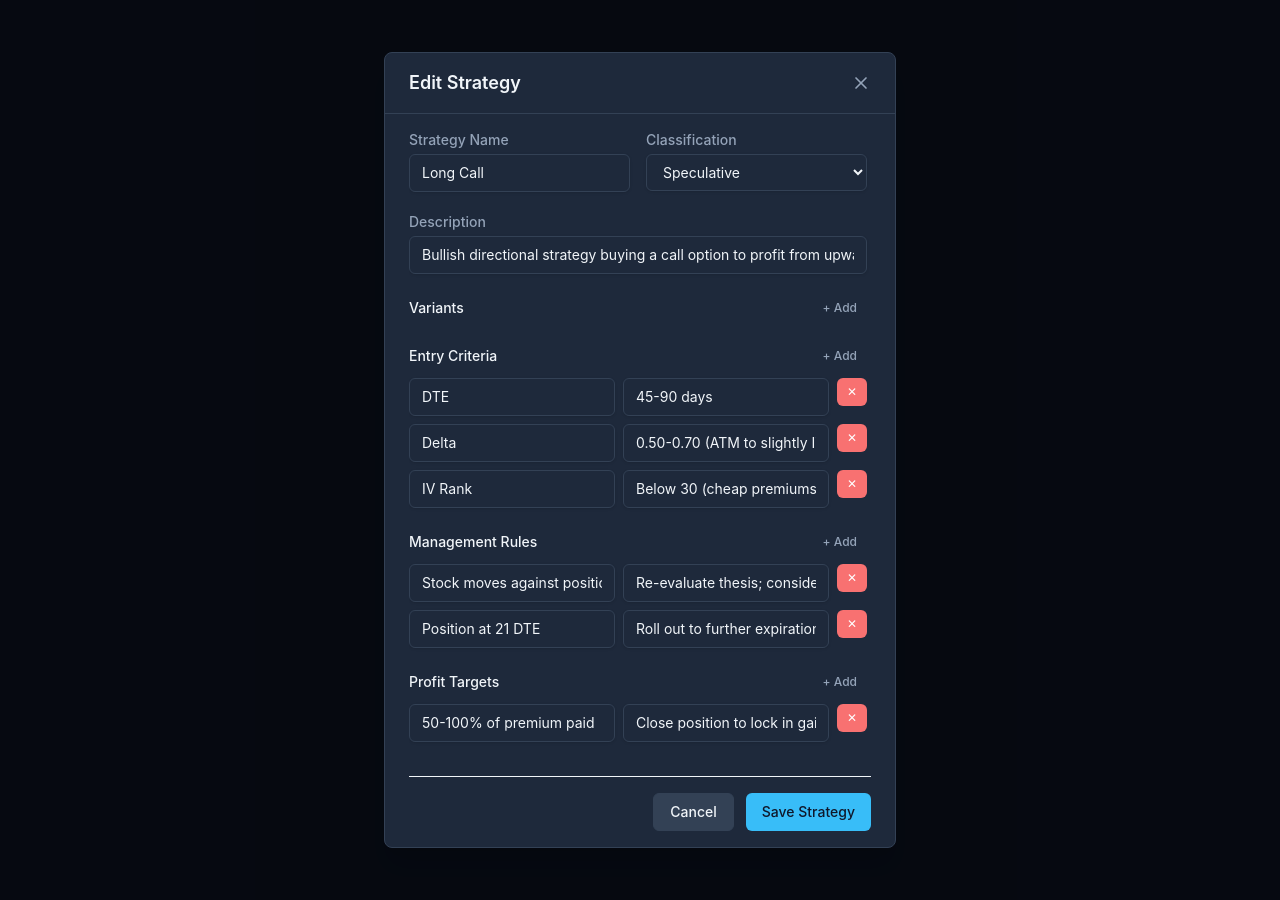
Integration: Imported strategy is editable via StrategyEditor › treats imported strategy identically to manually created (same validation)
Clear the name to trigger validation error
Clear the field labelled "Strategy Name" at coordinates (520, 173), box x1=409 y1=154 x2=630 y2=192
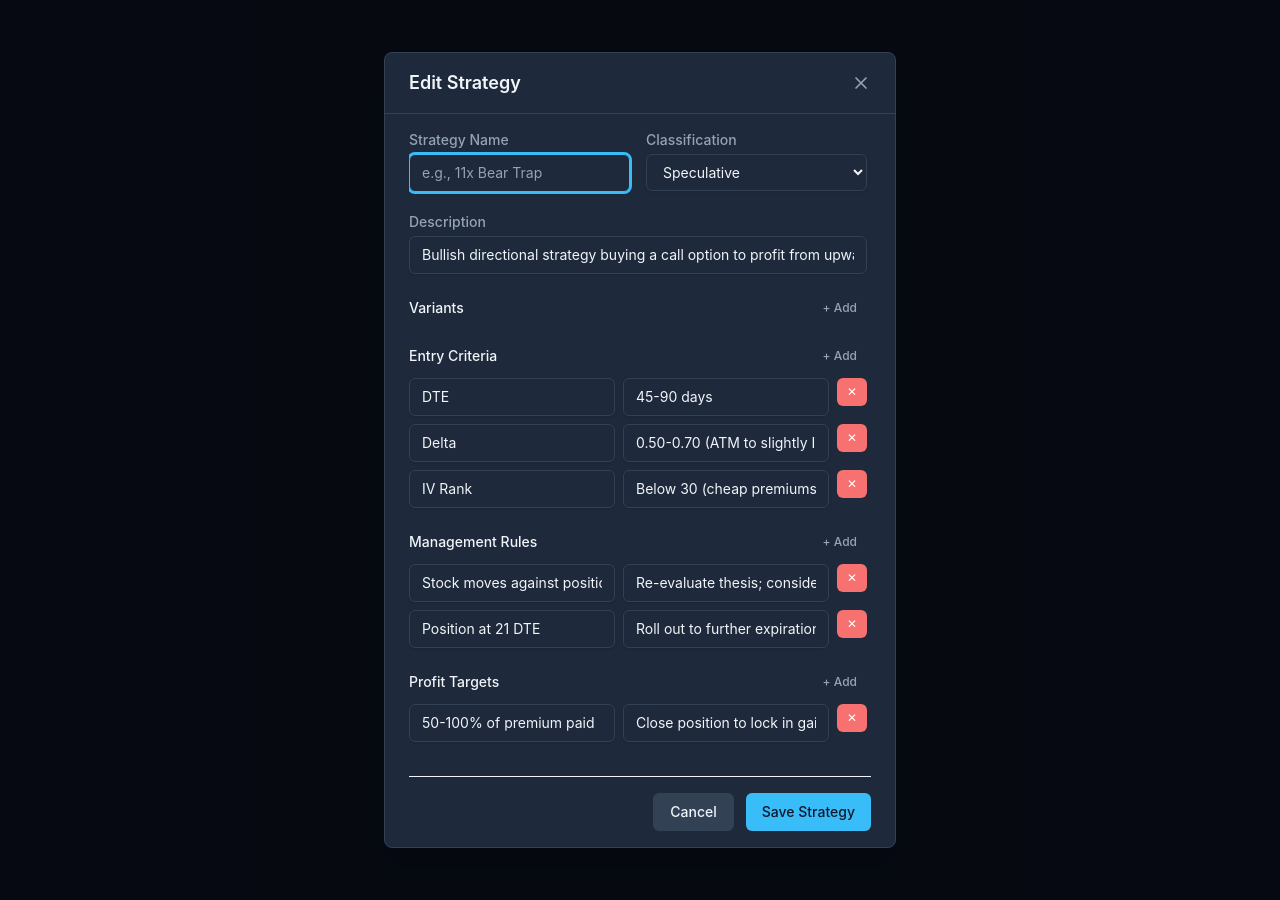
Click the button "Save Strategy" at coordinates (808, 812), box x1=746 y1=793 x2=871 y2=831
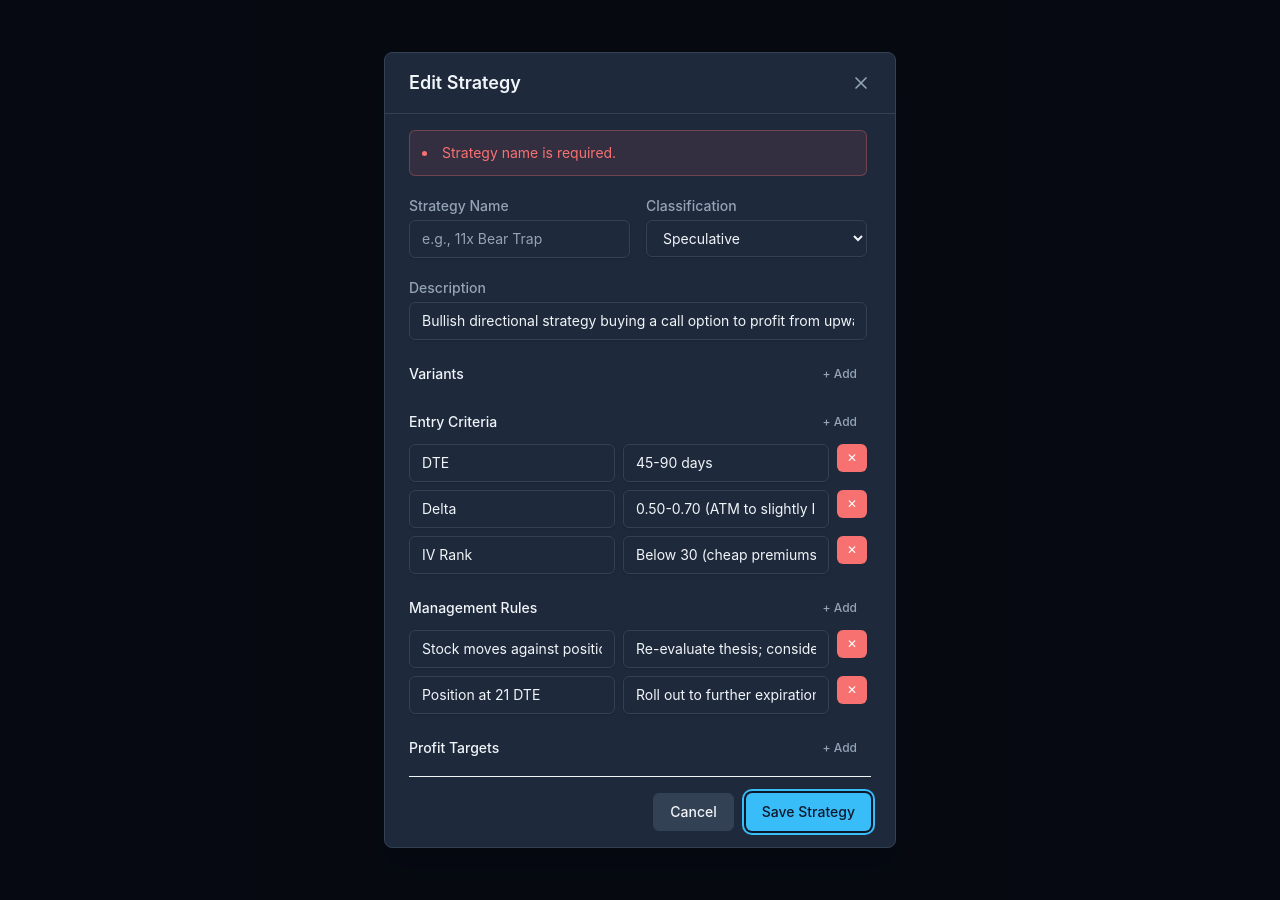
Now the list item "Strategy name is required." is shown, box x1=442 y1=144 x2=616 y2=161
